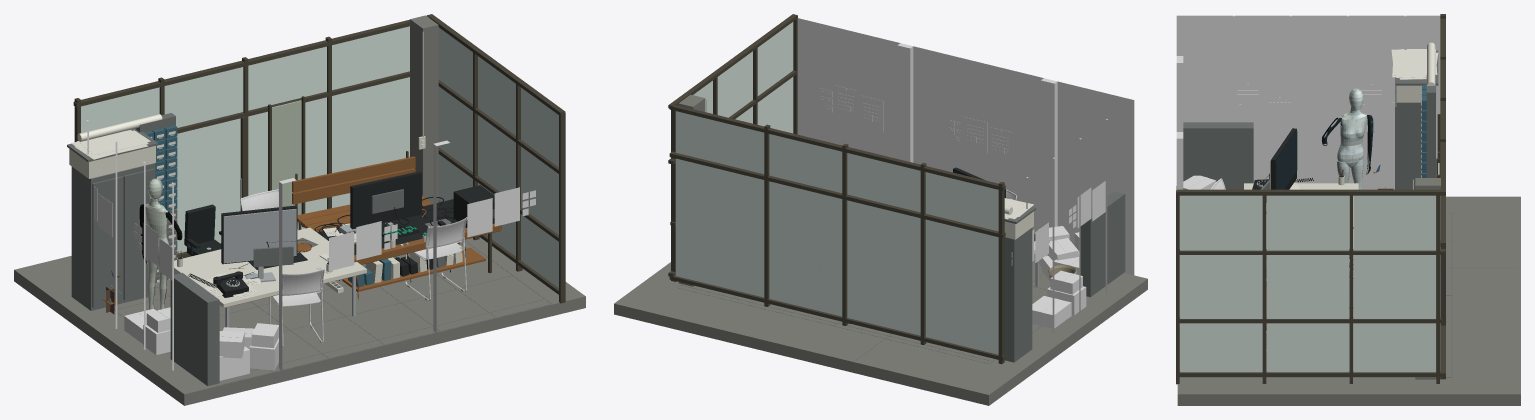
File: studio.glb
3 views of the same model, side by side, from view 1: azimuth 30°, elevation 25°; view 2: azimuth 150°, elevation 25°; view 3: azimuth 270°, elevation 25° (orthographic). The views are drawn at different scales.
Visible parts, largest first — view 1: objects, room, windows-studio, windows-right, hero-Plane, hero-Mannequin textured low poly; view 2: windows-studio, hero-Plane, room, objects, windows-right; view 3: windows-right, room, hero-Plane, objects, hero-Mannequin textured low poly.
Boxes of the visible parts, <box> form: objects: <box>67,113,535,385</box>; room: <box>14,14,585,405</box>; windows-studio: <box>81,26,409,253</box>; windows-right: <box>438,27,558,287</box>; hero-Plane: <box>86,120,449,372</box>; hero-Mannequin textured low poly: <box>139,178,182,309</box>; windows-studio: <box>675,111,998,354</box>; hero-Plane: <box>797,18,1134,333</box>; room: <box>614,14,1147,405</box>; objects: <box>819,85,1125,362</box>; windows-right: <box>693,22,793,133</box>; windows-right: <box>1180,195,1435,372</box>; room: <box>1176,14,1520,405</box>; hero-Plane: <box>1176,15,1440,326</box>; objects: <box>1176,42,1438,350</box>; hero-Mannequin textured low poly: <box>1322,88,1373,189</box>.
Size of the model in its own units: 7.2 by 3.57 by 5.31.
Materials: 5 (1 with a texture image).
